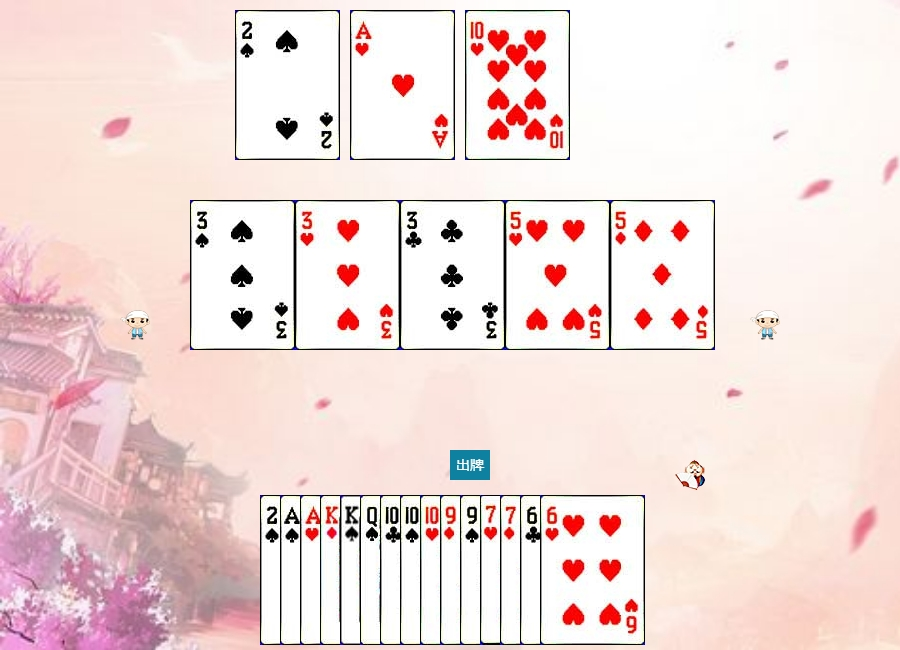10~2: (380, 495, 485, 645)
10~3: (465, 10, 570, 160), (420, 495, 525, 645)
10~4: (400, 495, 505, 645)
12~4: (360, 495, 465, 645)
13~1: (320, 495, 425, 645)
13~4: (340, 495, 445, 645)
14~3: (350, 10, 455, 160), (300, 495, 405, 645)
14~4: (280, 495, 385, 645)
15~4: (235, 10, 340, 160), (260, 495, 365, 645)
3~2: (400, 200, 505, 350)
3~3: (295, 200, 400, 350)
3~4: (190, 200, 295, 350)
5~1: (610, 200, 715, 350)
5~3: (505, 200, 610, 350)
6~2: (520, 495, 625, 645)
6~3: (540, 495, 645, 645)
7~1: (500, 495, 605, 645)
7~3: (480, 495, 585, 645)
9~1: (440, 495, 545, 645)
9~4: (460, 495, 565, 645)
